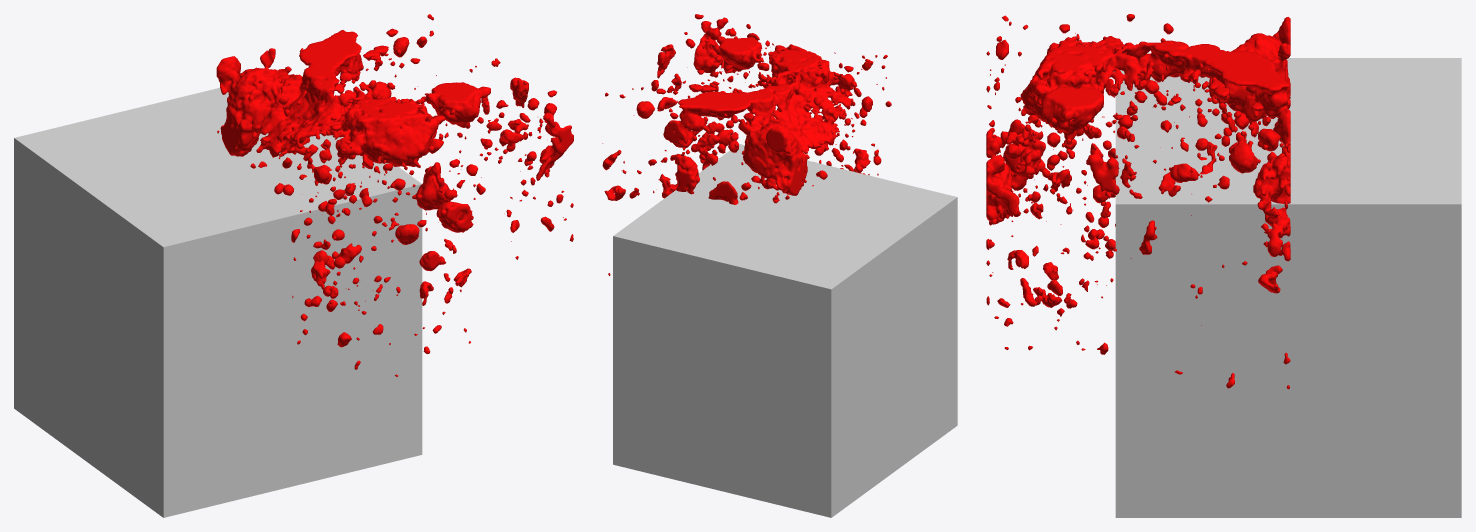
The model's file is pores.glb.
3 views of the same model, side by side, from view 1: azimuth 30°, elevation 25°; view 2: azimuth 150°, elevation 25°; view 3: azimuth 270°, elevation 25° (orthographic). The views are drawn at different scales.
Visible parts, largest first — view 1: Cube, tutorial; view 2: Cube, tutorial; view 3: Cube, tutorial.
Part boxes in pixels (<box>): Cube: <box>14,87,422,517</box>; tutorial: <box>216,14,573,376</box>; Cube: <box>613,144,957,517</box>; tutorial: <box>602,14,891,275</box>; Cube: <box>1115,58,1461,517</box>; tutorial: <box>986,14,1290,389</box>.
Bounding box in the file's own units: 2.75 × 2.75 × 2.75.
